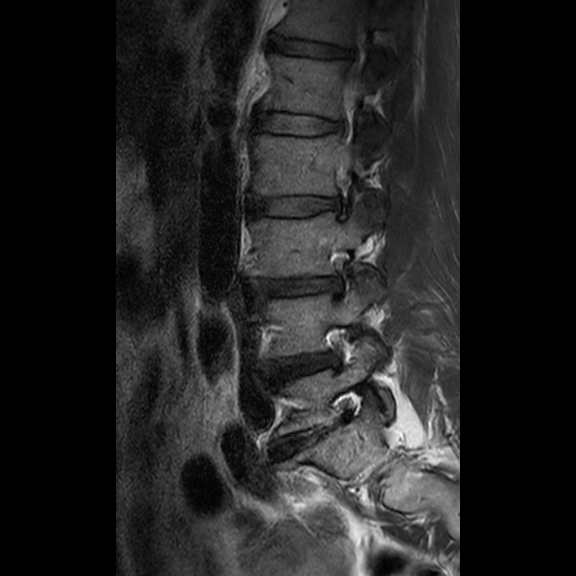RFS1: (318, 238, 359, 307)
